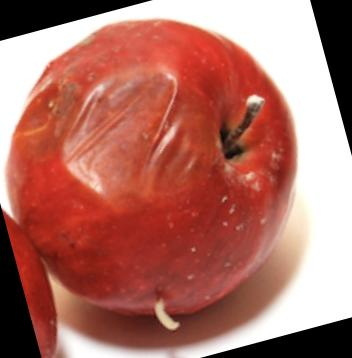Banana: (12, 16, 286, 315)
